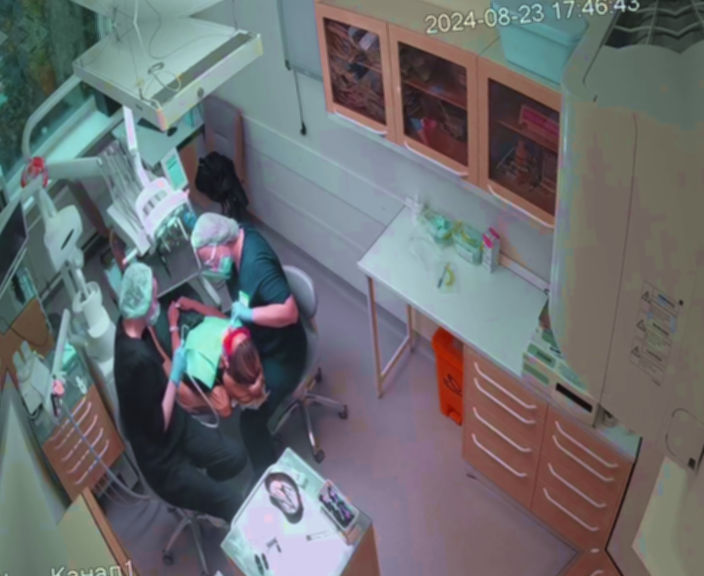Patient: (86, 206, 277, 430)
